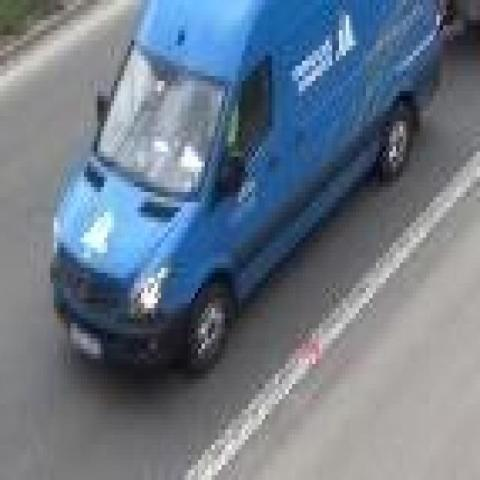van: (53, 0, 442, 379)
